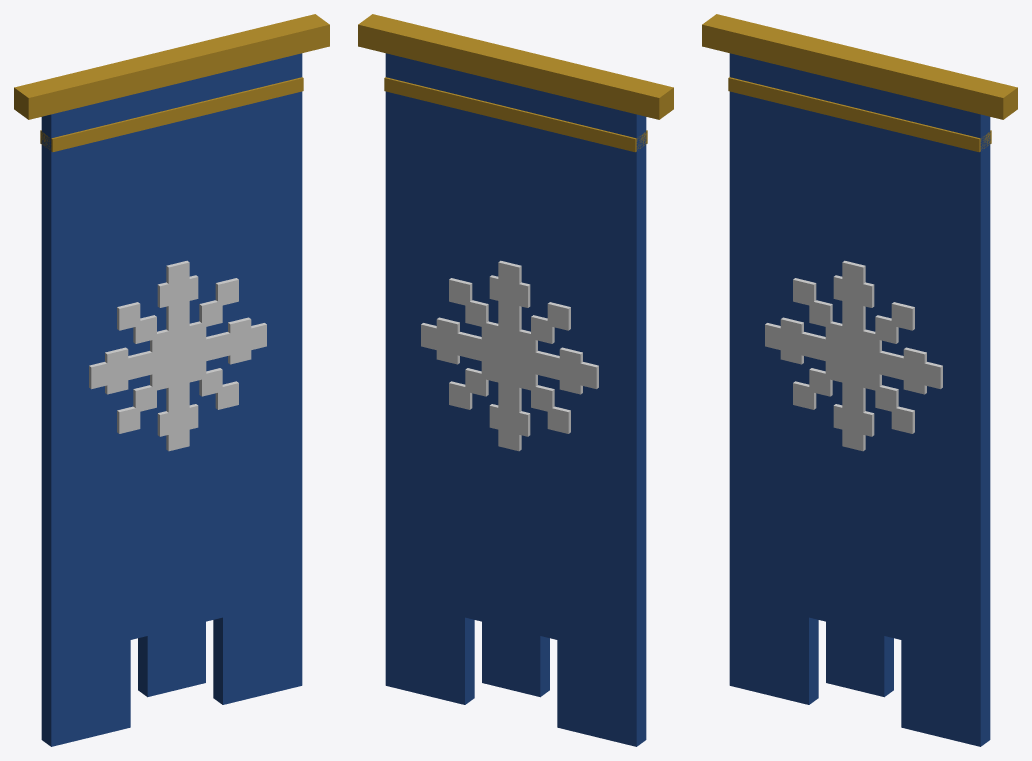
The model's file is ntu-snowflake-banner.glb.
3 renders of one model, left to right at view 1: azimuth 30°, elevation 25°; view 2: azimuth 150°, elevation 25°; view 3: azimuth 330°, elevation 25°, orthographic.
Parts seen in each view (by area): view 1: box-prop; view 2: box-prop; view 3: box-prop.
Part boxes in pixels (left/top/right/bottom): box-prop: left=14, top=14, right=329, bottom=746; box-prop: left=358, top=14, right=673, bottom=746; box-prop: left=702, top=14, right=1017, bottom=746.
Size of the model in its own units: 1.44 by 3 by 0.12.
